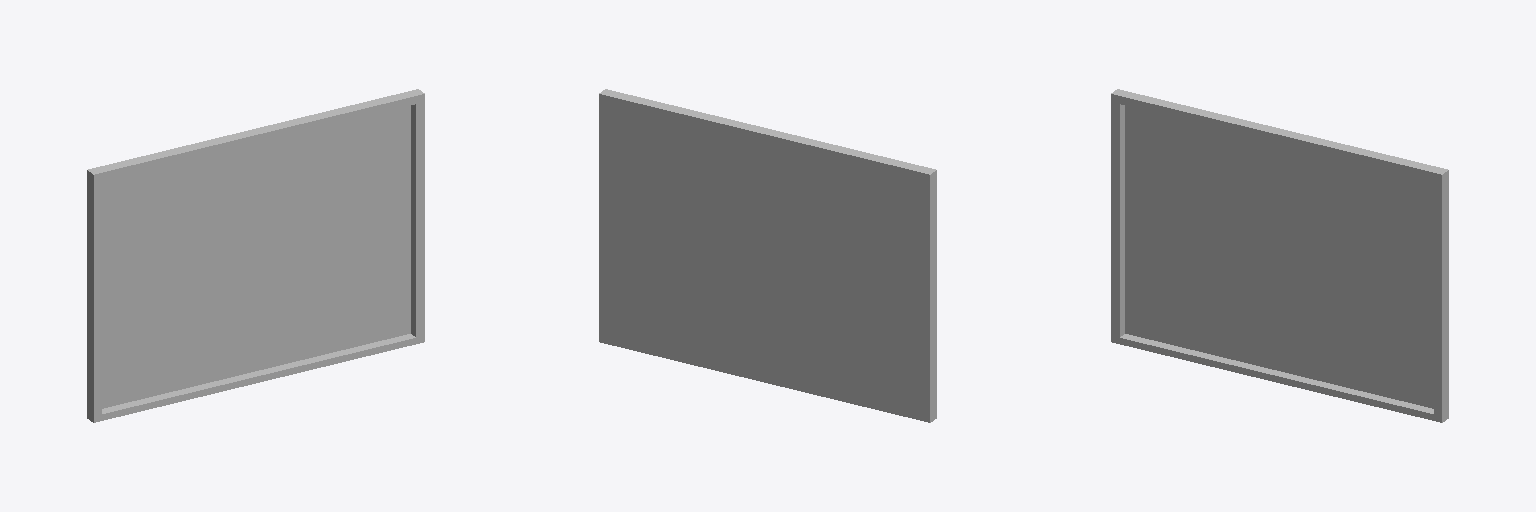
The model's file is smallBillboardPanel.obj.
3 views of the same model, side by side, from view 1: azimuth 30°, elevation 25°; view 2: azimuth 150°, elevation 25°; view 3: azimuth 330°, elevation 25° (orthographic).
Parts seen in each view (by area): view 1: ScreenCover_Mesh.065; view 2: ScreenCover_Mesh.065; view 3: ScreenCover_Mesh.065.
Part boxes in pixels (left/top/right/bottom): ScreenCover_Mesh.065: left=87, top=89, right=424, bottom=422; ScreenCover_Mesh.065: left=599, top=89, right=936, bottom=422; ScreenCover_Mesh.065: left=1111, top=89, right=1448, bottom=422.
Size of the model in its own units: 6.62 by 4.73 by 0.2326.